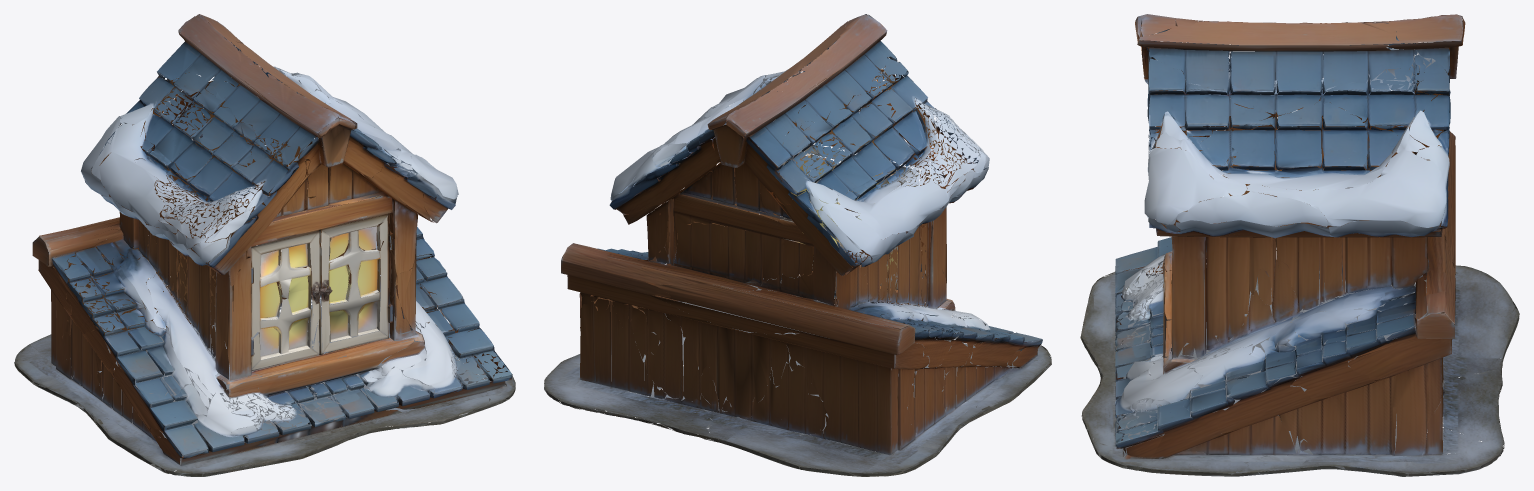
The model's file is DormerWindow.fbx.
3 views of the same model, side by side, from view 1: azimuth 30°, elevation 25°; view 2: azimuth 150°, elevation 25°; view 3: azimuth 270°, elevation 25° (orthographic). The views are drawn at different scales.
Visible parts, largest first — view 1: DormerWindow; view 2: DormerWindow; view 3: DormerWindow.
Part boxes in pixels (left/top/right/bottom): DormerWindow: left=14, top=14, right=515, bottom=476; DormerWindow: left=544, top=14, right=1051, bottom=476; DormerWindow: left=1080, top=14, right=1519, bottom=476.
Size of the model in its own units: 206 by 165 by 182.
1 material, 1 textured.
